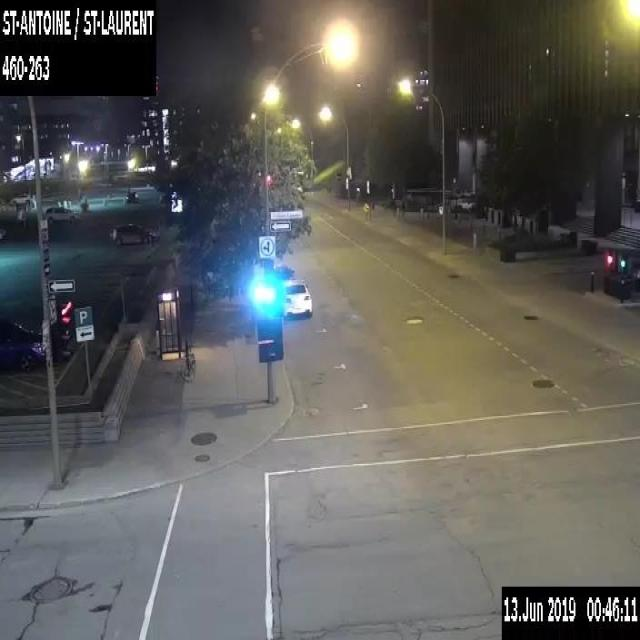vehicle: (0, 317, 56, 371), (112, 221, 160, 246), (284, 277, 312, 318), (44, 205, 80, 223), (10, 192, 31, 205), (125, 190, 138, 203)
